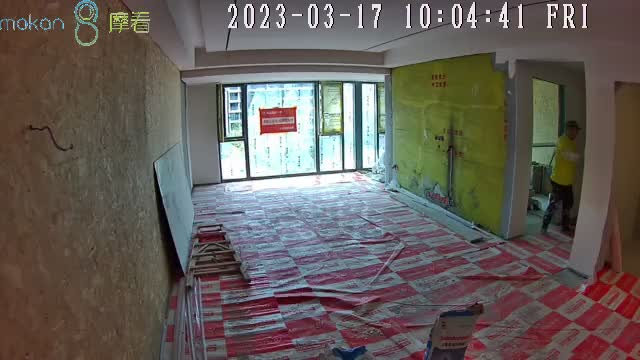people: (540, 121, 581, 239)
window: (220, 81, 384, 182)
